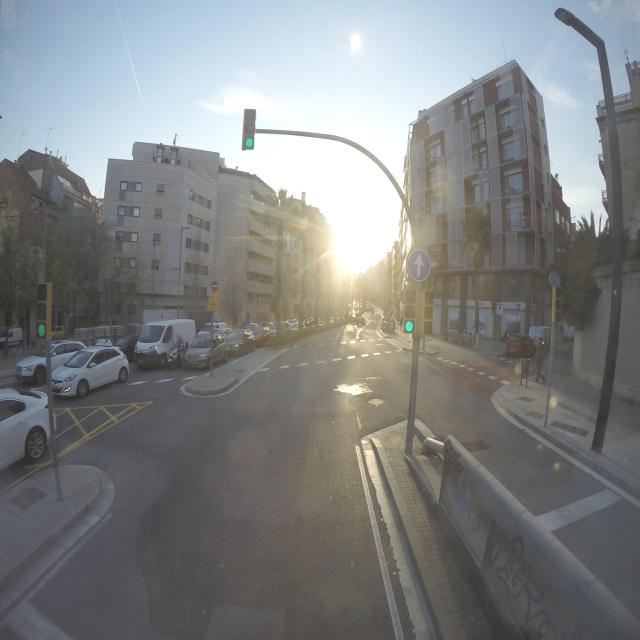car: (0, 366, 54, 507), (49, 345, 130, 399), (14, 340, 86, 386), (134, 318, 196, 370), (183, 334, 228, 371), (504, 333, 545, 358), (224, 329, 255, 355), (0, 325, 23, 349), (200, 320, 228, 334), (356, 315, 366, 326), (351, 315, 359, 327)
